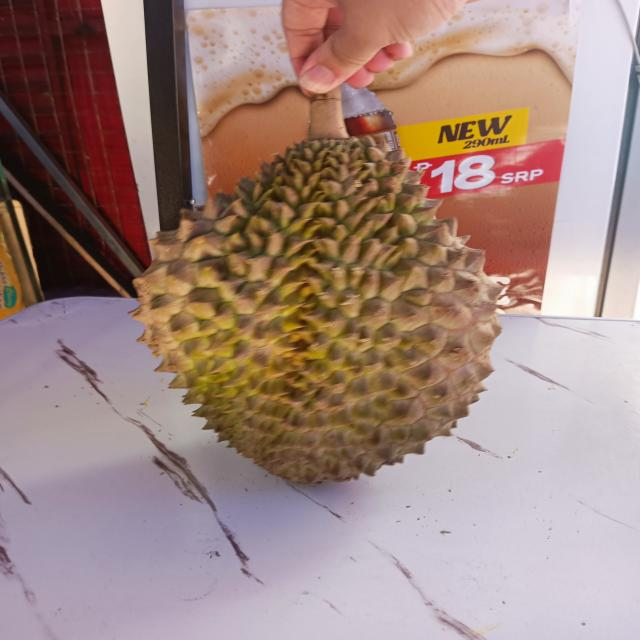mature: (142, 138, 501, 483)
